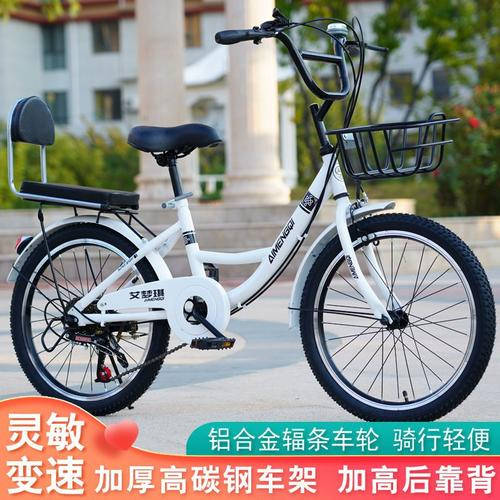单车: (4, 13, 500, 421)
